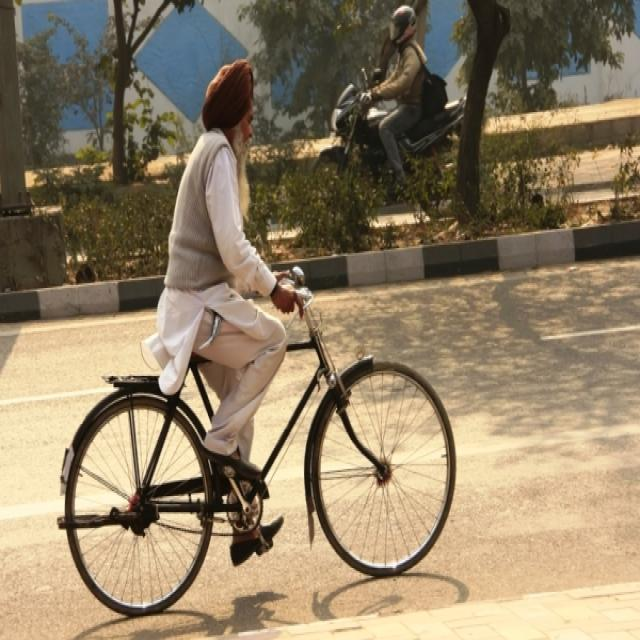bicycle: (59, 62, 456, 614)
motorcycle: (319, 6, 465, 179)
